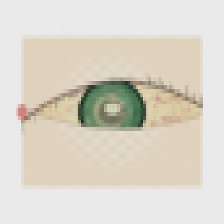corneal_ulcer: (80, 89, 138, 135)
